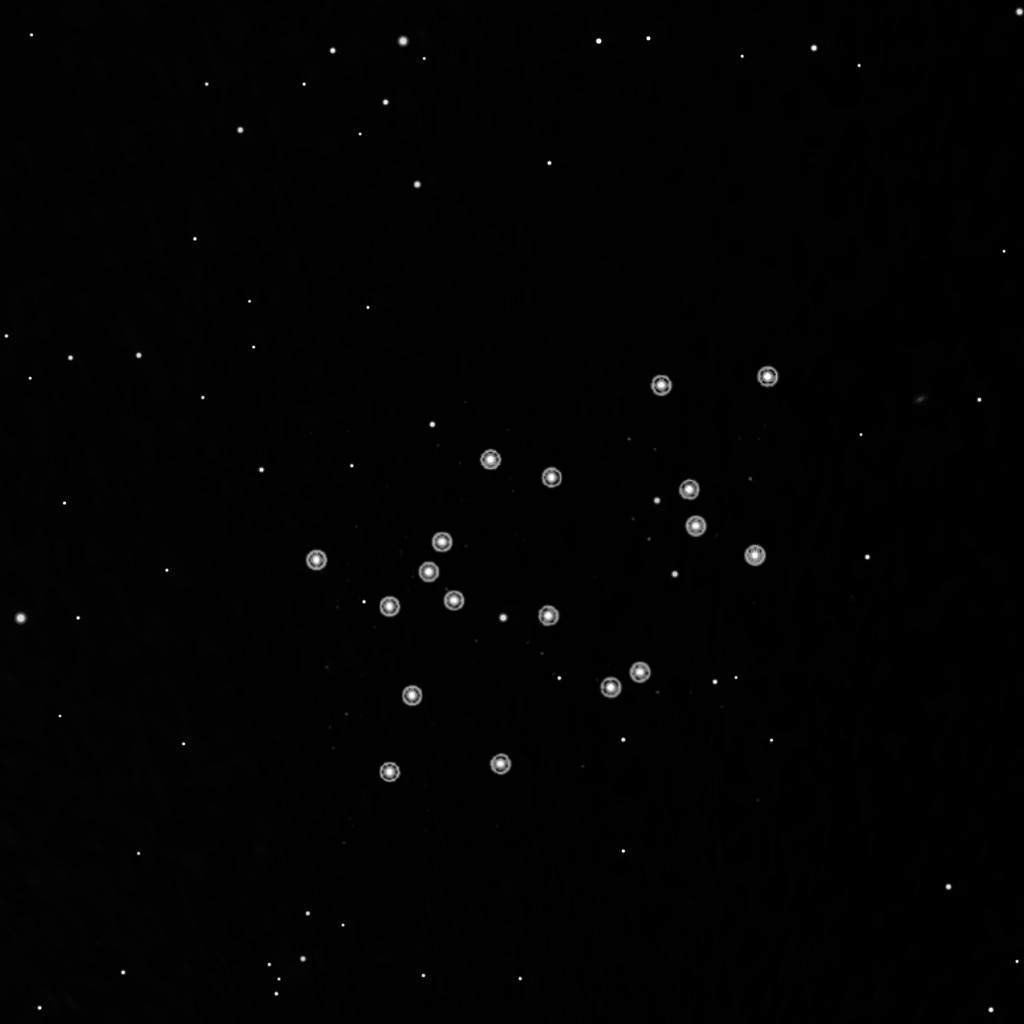canis_major: (370, 448, 569, 626)
